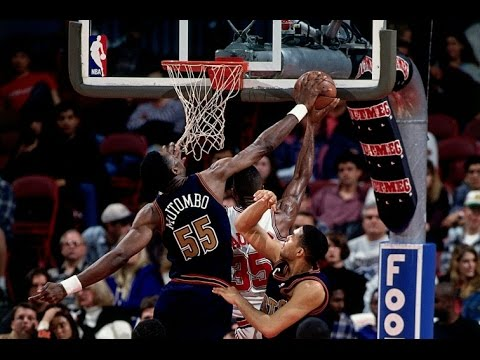b_ball: (293, 66, 342, 109)
basket: (161, 52, 241, 154)
player: (31, 143, 245, 344), (237, 182, 338, 349)
